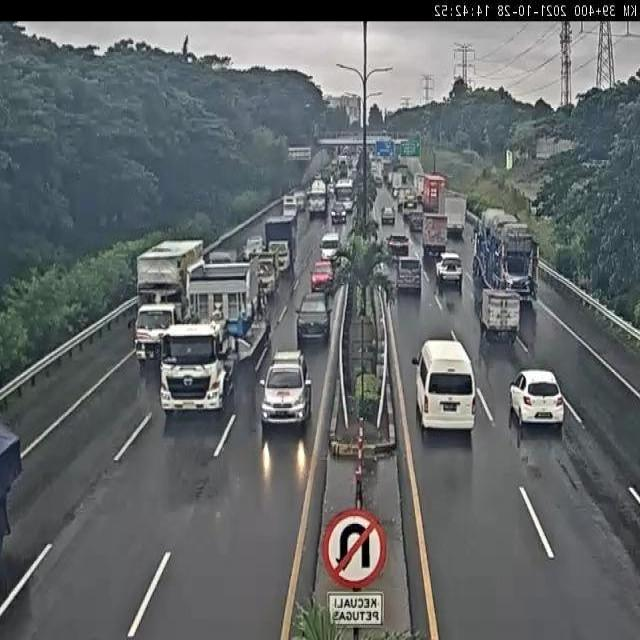Bus: (334, 177, 354, 213)
Car: (260, 349, 314, 428), (509, 369, 564, 428), (295, 292, 331, 344), (435, 252, 463, 286), (310, 260, 334, 292), (387, 233, 409, 257), (330, 203, 348, 224), (381, 206, 395, 225)
Truck: (156, 260, 270, 416), (134, 238, 208, 366), (474, 208, 538, 308), (475, 288, 521, 341), (264, 213, 298, 274), (421, 212, 448, 260), (419, 173, 447, 214), (443, 193, 467, 240), (308, 178, 328, 218)
Van: (414, 338, 476, 430)
